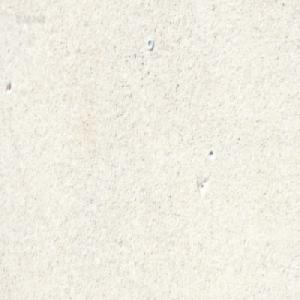Washer: (146, 37, 153, 50)
